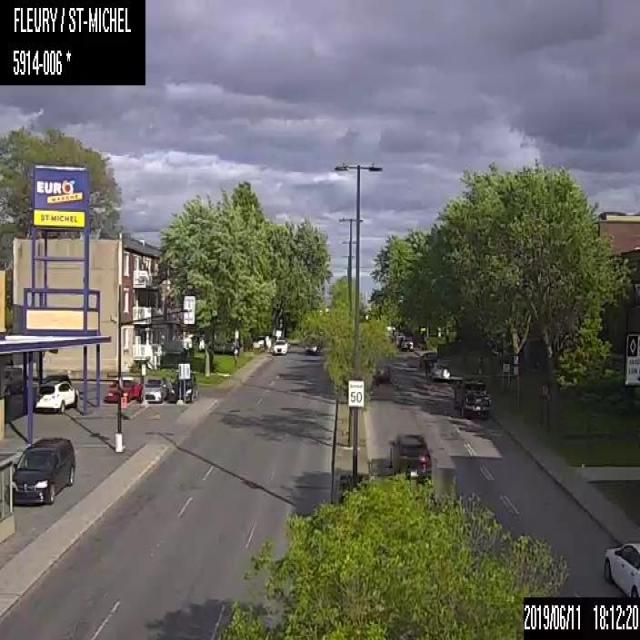vehicle: (9, 435, 76, 504), (601, 537, 639, 595), (388, 431, 433, 478), (33, 374, 79, 410), (449, 379, 492, 416), (104, 375, 139, 403), (170, 371, 198, 401), (139, 377, 170, 402), (427, 361, 451, 380), (271, 336, 288, 355), (419, 350, 436, 367), (304, 338, 320, 354), (401, 338, 416, 350)
